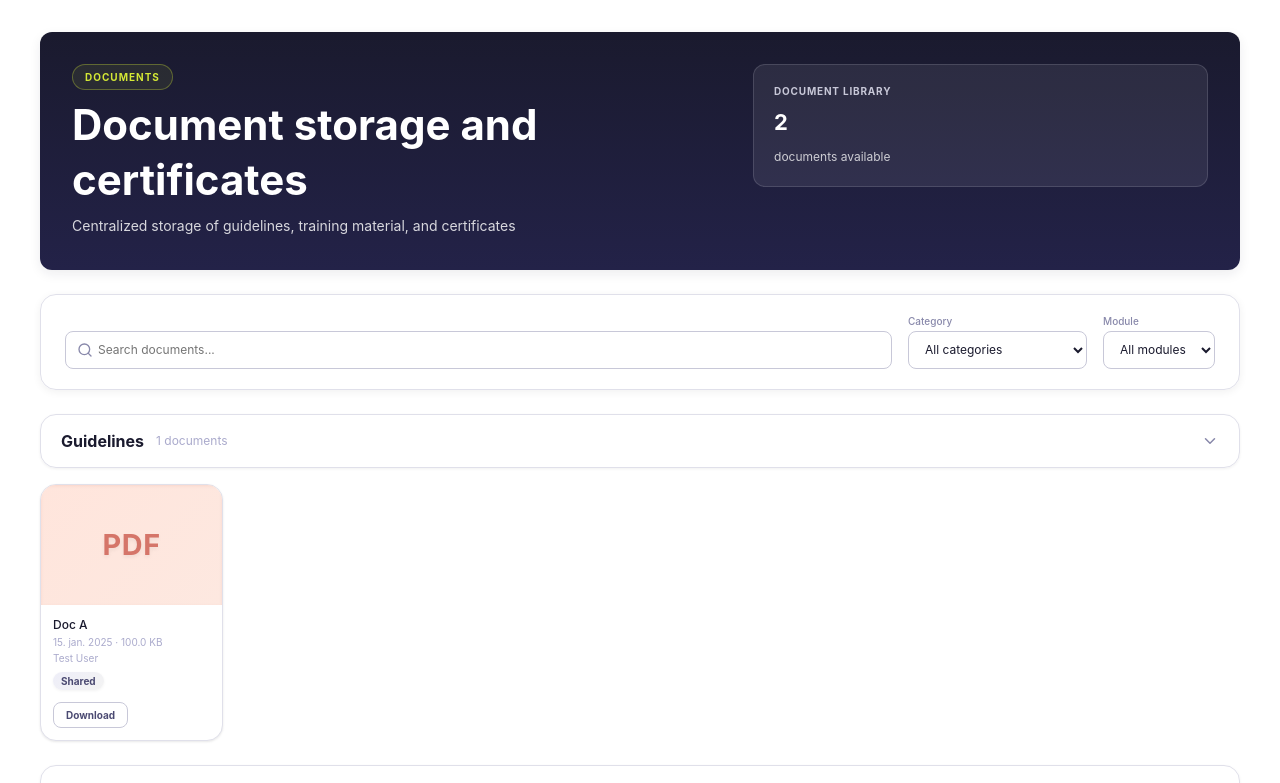
it: DocumentsView › filtering › updates document count in insight card after filtering
Expected: the text with class "insight-value" reads "2", [774,109,788,135]
Select "Guidelines" in the dropdown with id "filter-cat". click: (998, 350)
box: [908,331,1087,369]
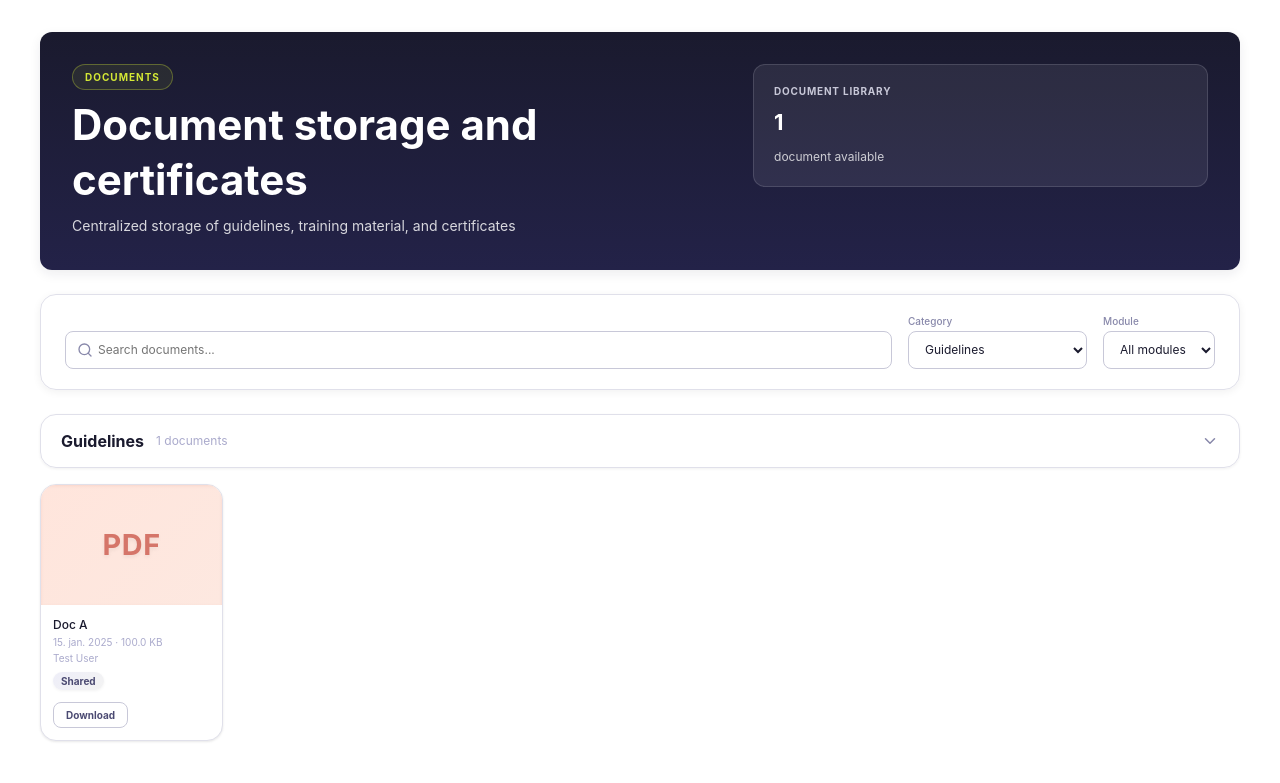
Expected: the text with class "insight-value" reads "1", [774,109,784,135]
